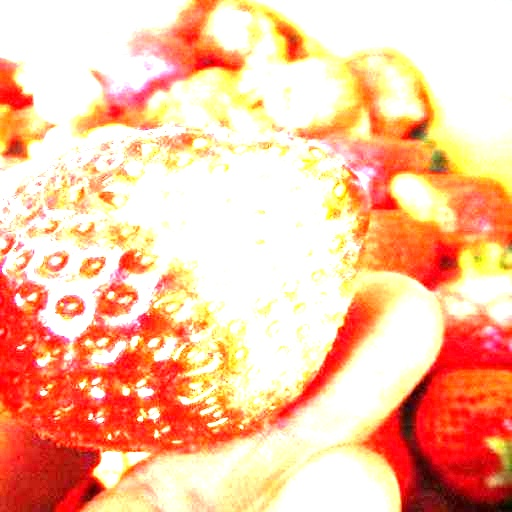Powdery Mildew Fruit: (70, 126, 372, 445)
